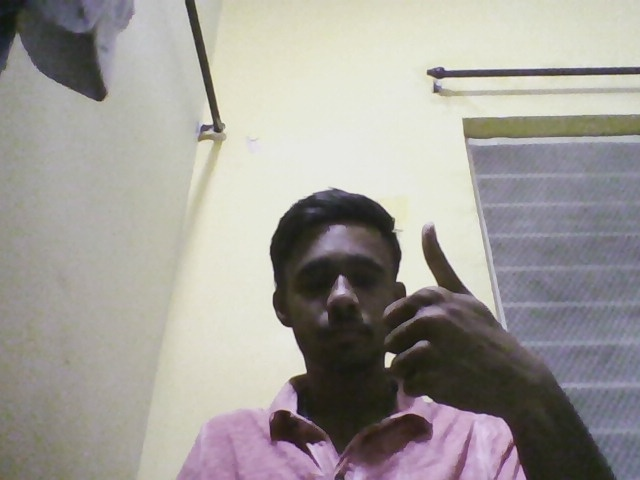yes: (381, 219, 549, 437)
